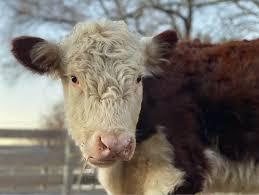cow: (14, 25, 259, 195)
